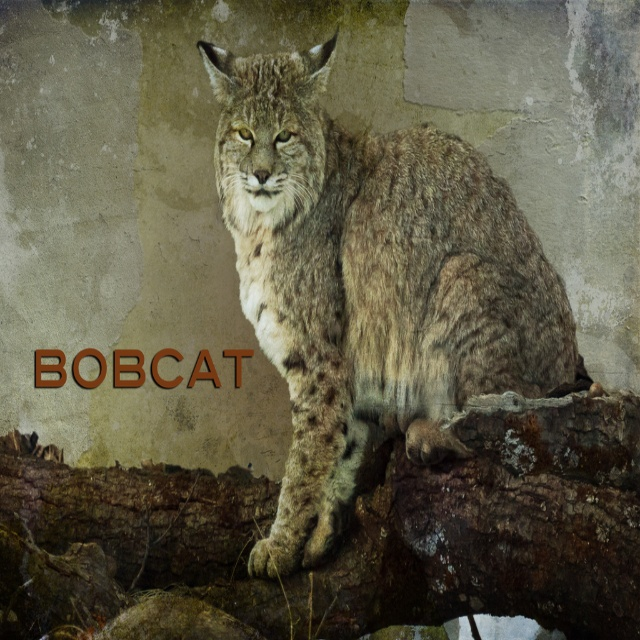Lynx: (197, 27, 579, 578)
